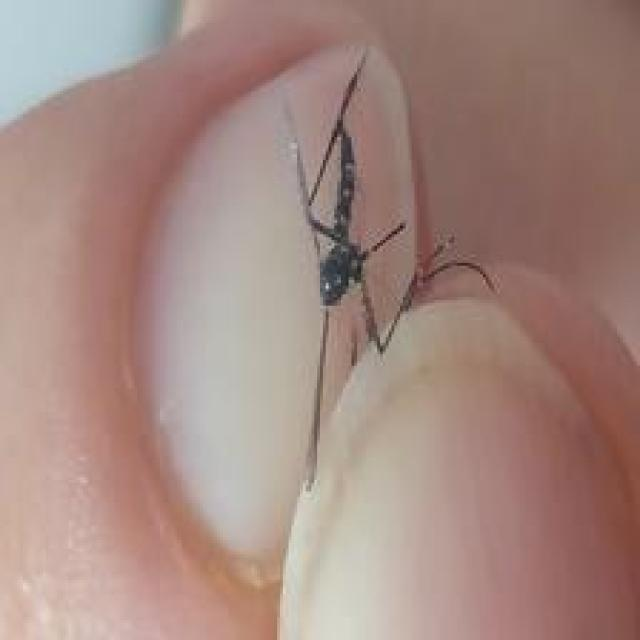Aedes albopictus: (278, 44, 498, 493)
